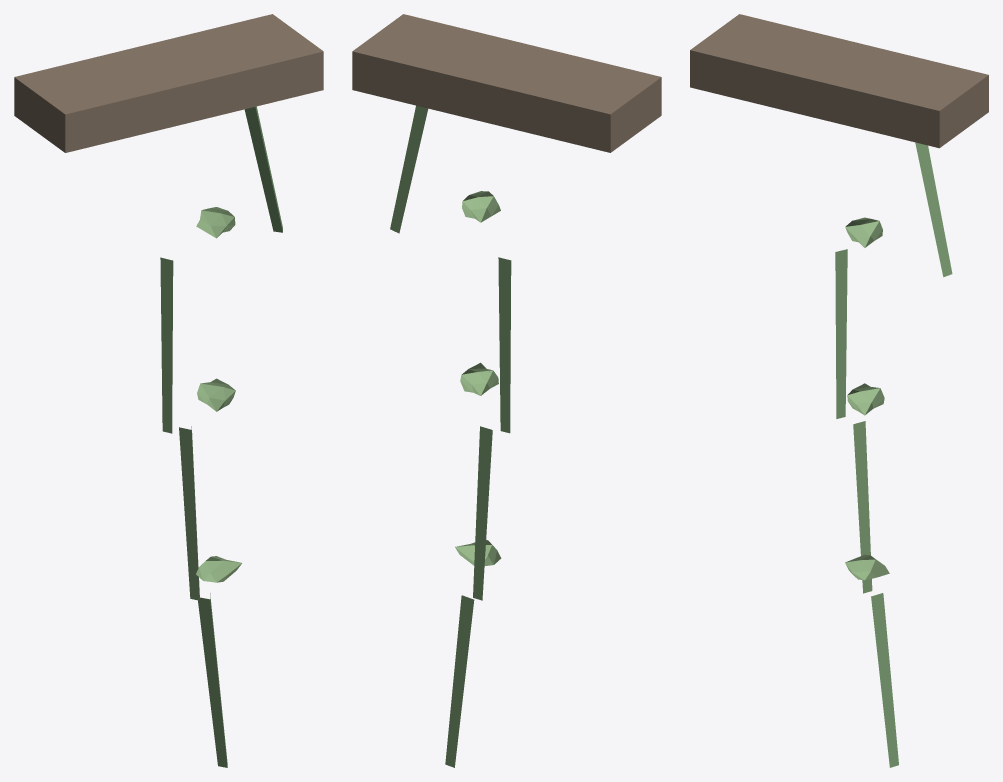
The model's file is vine_v24.glb.
The picture shows the model from 3 angles, left to right: view 1: azimuth 30°, elevation 25°; view 2: azimuth 150°, elevation 25°; view 3: azimuth 330°, elevation 25°; orthographic projection. The views are drawn at different scales.
Parts seen in each view (by area): view 1: lod0; view 2: lod0; view 3: lod0.
Boxes of the visible parts, bbox=[...] form: lod0: bbox=[14, 14, 323, 767]; lod0: bbox=[352, 14, 661, 767]; lod0: bbox=[690, 14, 988, 767].
Size of what is drawn, in the model's own units: 0.7 by 1.85 by 0.24.
